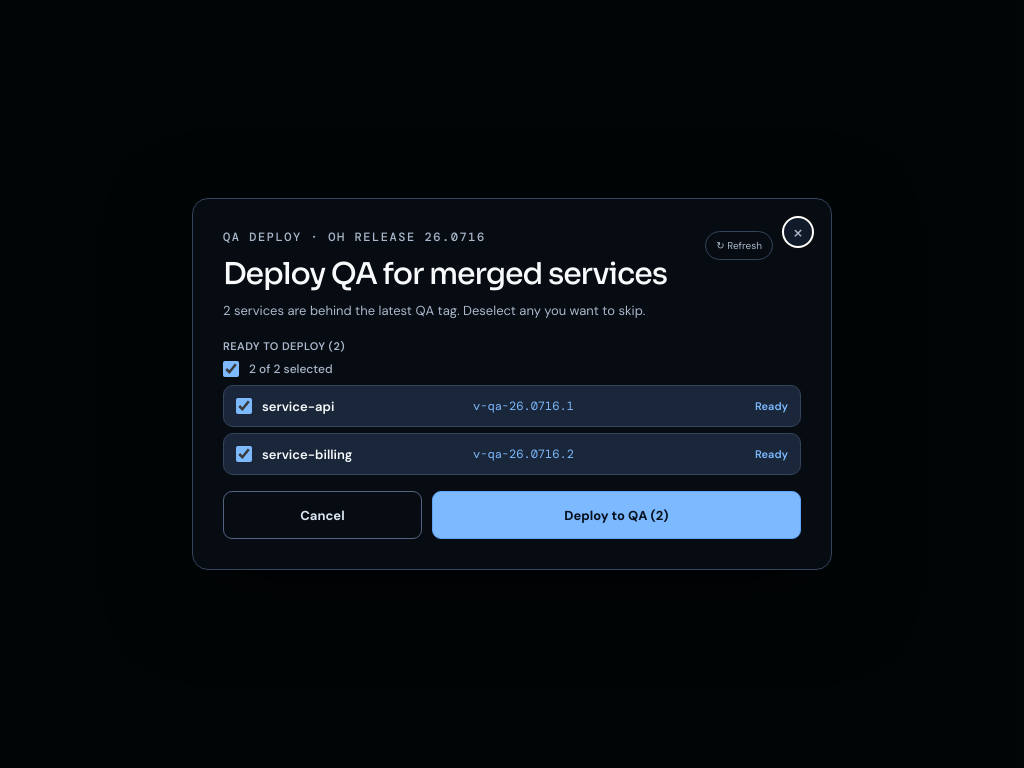
BulkQaDeployDialog › skips deselected ready services instead of deploying every pending target
The image size is (1024, 768).
Check: the text "2 of 2 selected" is shown, box [223,361,332,377]
Click the checkbox named "Include service-api" at (244, 406), box [236,398,252,414]
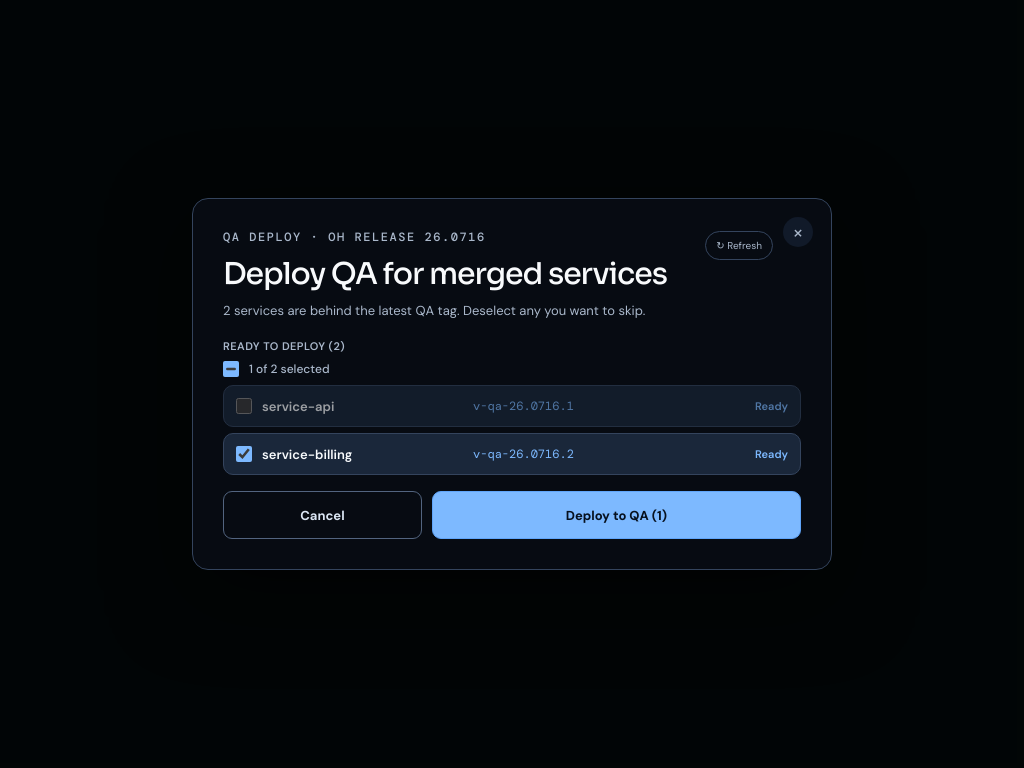
Check: the text "1 of 2 selected" is shown, box [223,361,330,377]
Click the button "Deploy to QA (1)" at (616, 515), box [432,491,801,539]
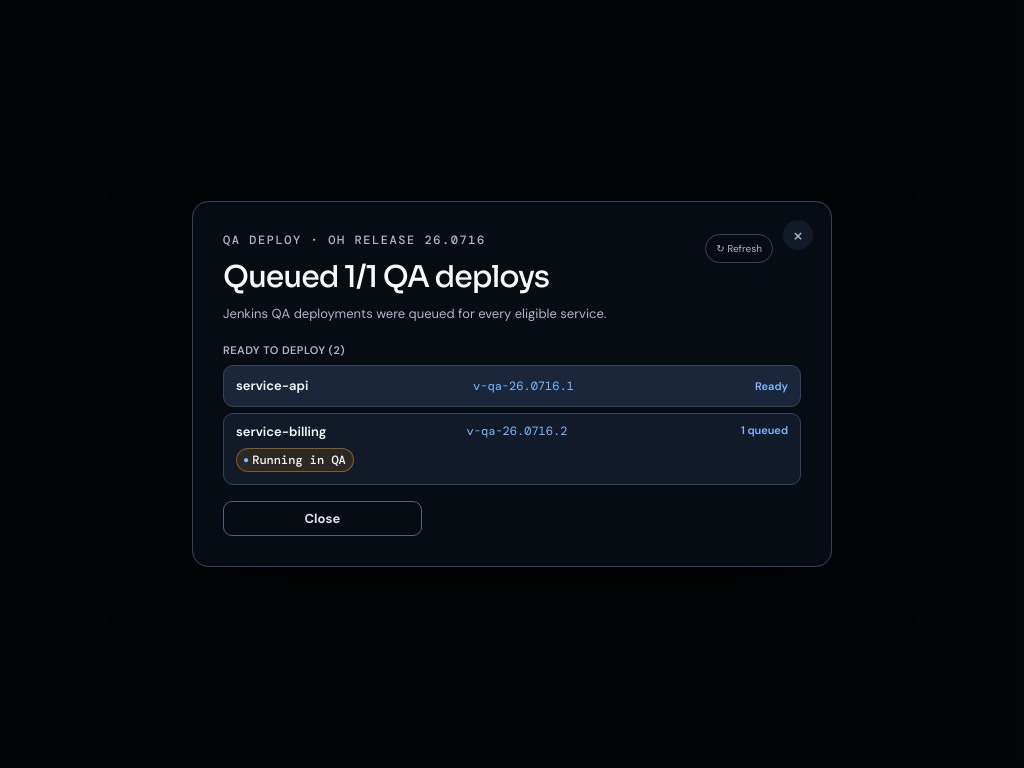
Check: the heading "Queued 1/1 QA deploys" is shown, box [223,258,549,296]
